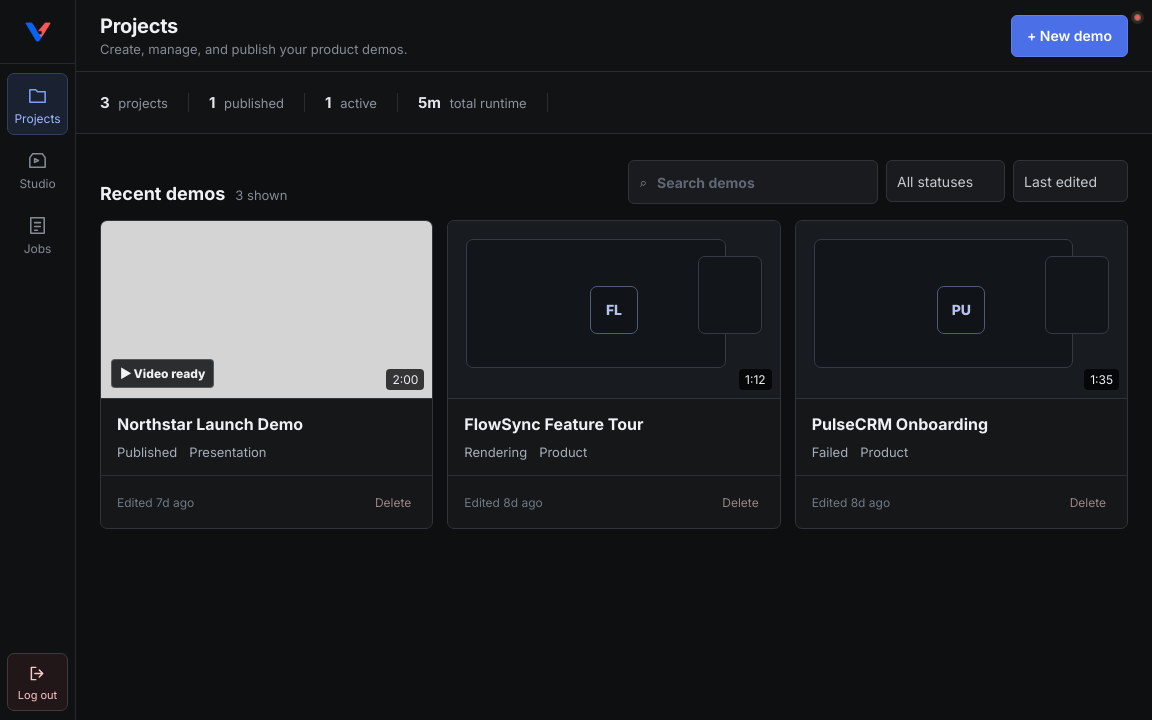
Test case: DemoLibrary › deletes only the confirmed project and updates the library
The image size is (1152, 720).
Expected: the heading "FlowSync Feature Tour" is shown, [464, 414, 643, 434]
Click the button with aria-label "Delete FlowSync Feature Tour" at coordinates (740, 502), box [711, 485, 770, 519]
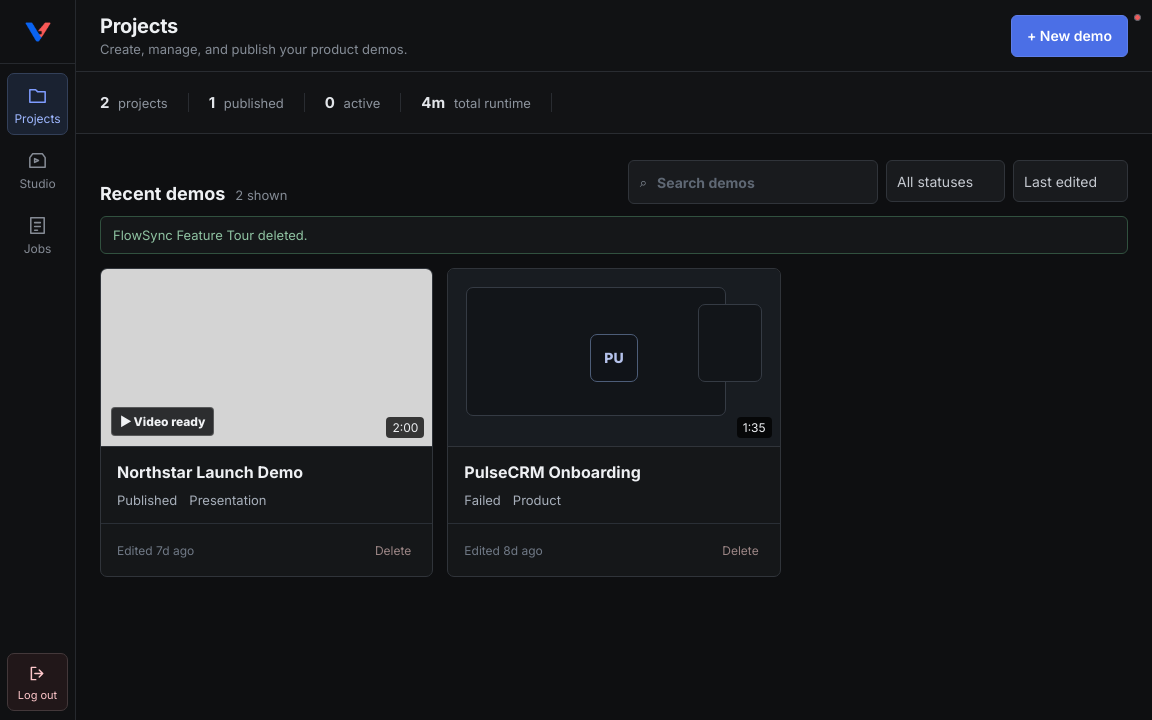
Expected: the heading "PulseCRM Onboarding" is shown, [464, 462, 641, 482]
Now the message shows "FlowSync Feature Tour deleted", box [113, 227, 308, 243]
